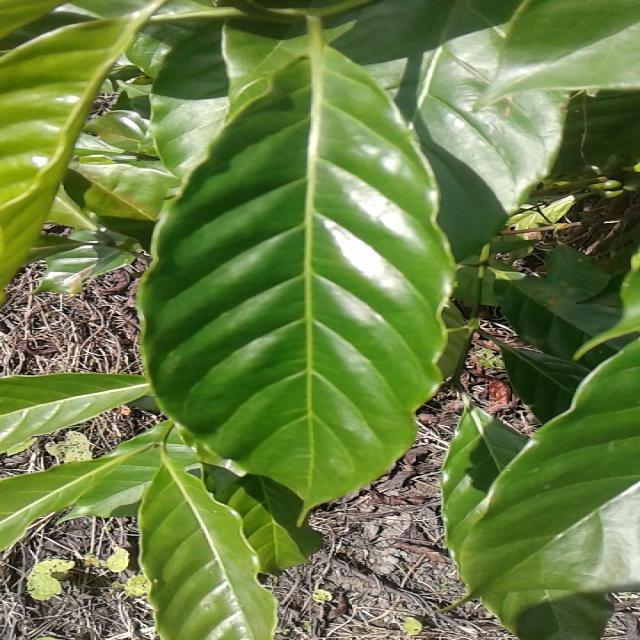Sanas: (136, 24, 506, 512)
